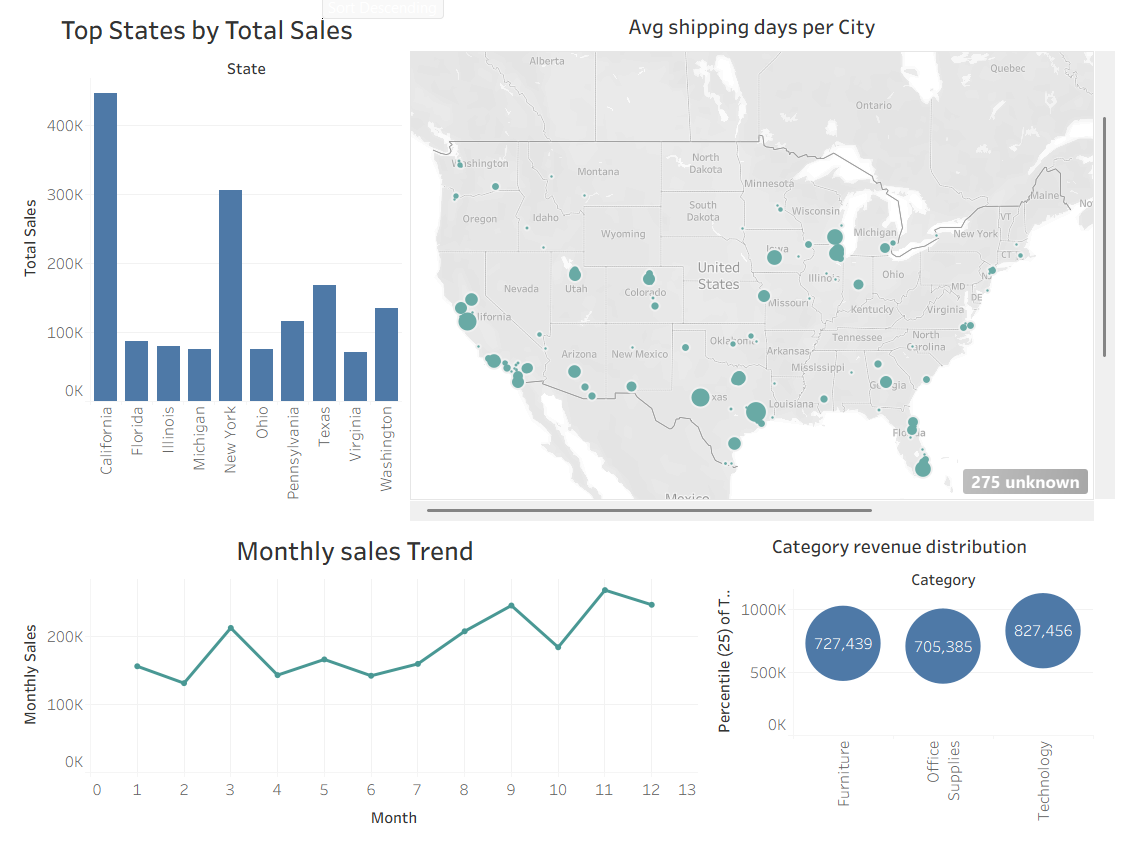

The page's visual inventory and layout, read from the dashboard file:
{"tool":"tableau","page":{"name":"Dashboard 1","canvas":[1000,1000],"units":"permille","ordinal":0},"visuals":[{"type":"worksheet","title":"Sheet 3","mark":"Automatic","rows":["total_sales"],"cols":["state"],"box":[7.1,9.4,353.2,612.2]},{"type":"worksheet","title":"Sheet 2","mark":"Automatic","box":[360.2,9.4,632.6,612.2]},{"type":"worksheet","title":"Sheet 1","mark":"Automatic","rows":["monthly_sales"],"cols":["month"],"box":[7.1,621.6,615.8,369]},{"type":"worksheet","title":"Sheet 4","mark":"Pie","rows":["total_sales"],"cols":["category"],"box":[622.9,621.6,370,369]}]}

Visuals, with their boxes on the dashboard's canvas, which has no fixed pixel size, in thousandths of its width and height (x1, y1, x2, y2). These are canvas units, not pixel positions in the 1127x846 screenshot, which may show the page scaled, cropped or inside an application window:
"Sheet 3" worksheet: bbox(7, 9, 360, 622)
"Sheet 2" worksheet: bbox(360, 9, 993, 622)
"Sheet 1" worksheet: bbox(7, 622, 623, 991)
"Sheet 4" worksheet (Pie marks): bbox(623, 622, 993, 991)
